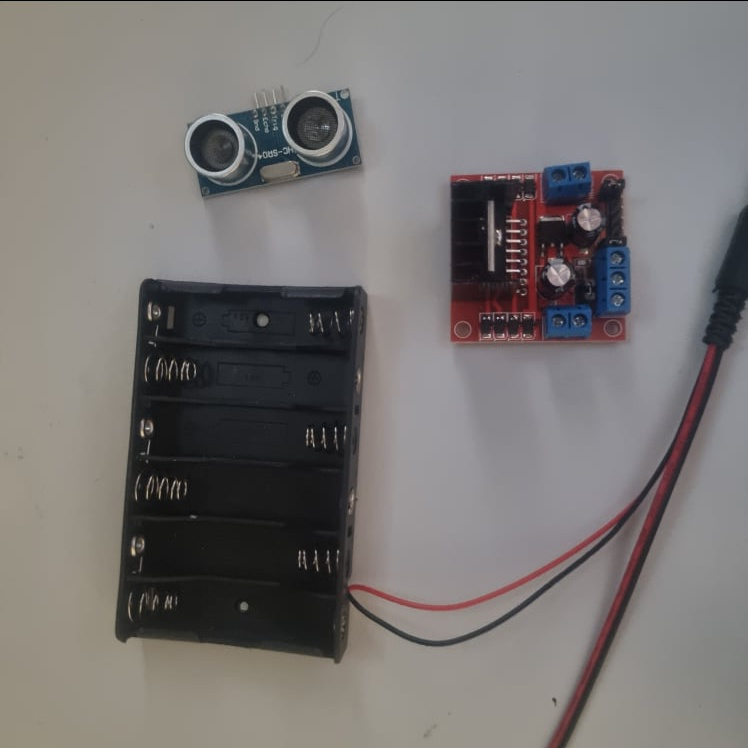BATTERY BOX: (111, 275, 366, 665)
MOTOR: (449, 161, 630, 344)
SENSOR: (179, 82, 364, 198)
